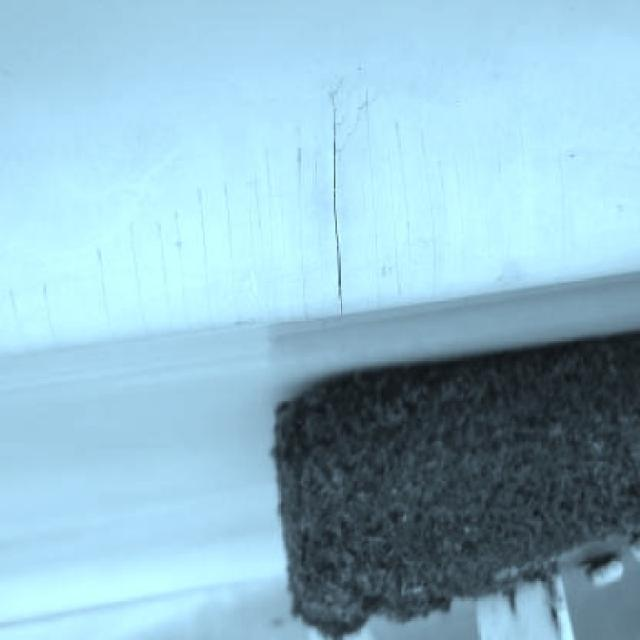crack: (332, 101, 348, 318)
